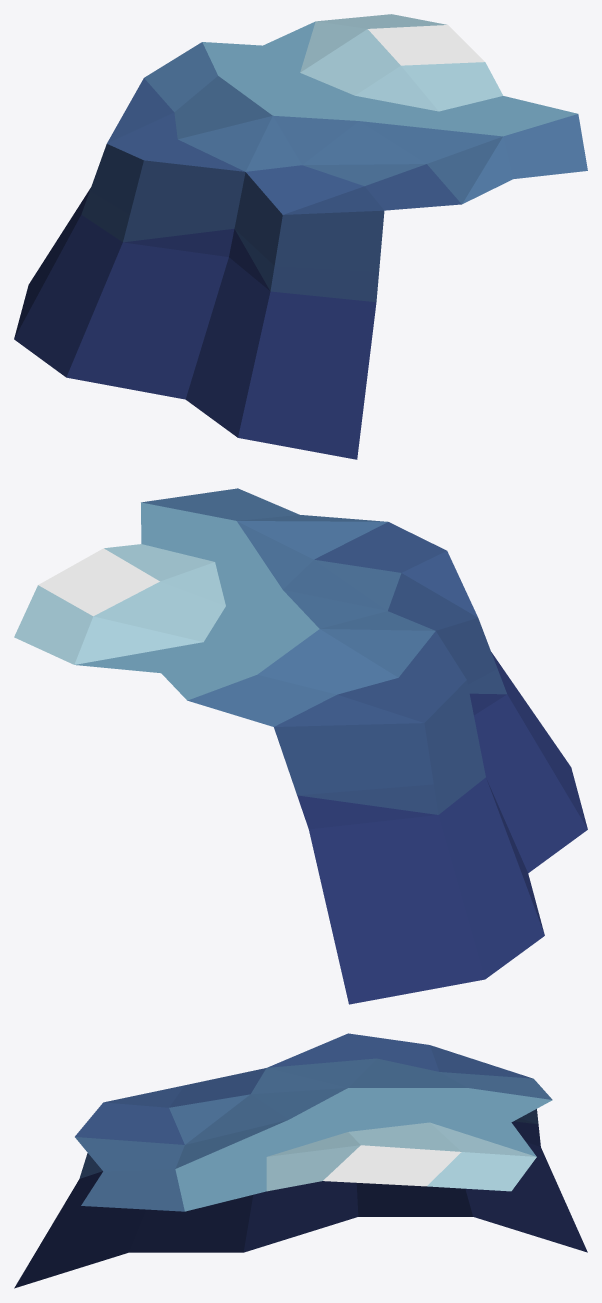
The model's file is terrainSeaFloorDescent1.fbx.
3 views of the same model, one above another, from view 1: azimuth 30°, elevation 25°; view 2: azimuth 150°, elevation 25°; view 3: azimuth 270°, elevation 25° (orthographic). The views are drawn at different scales.
Visible parts, largest first — view 1: seafloor; view 2: seafloor; view 3: seafloor.
Boxes of the visible parts, x1,y1,x2,y2 form: seafloor: (14, 14, 587, 459); seafloor: (14, 488, 587, 1004); seafloor: (14, 1033, 587, 1288).
Size of the model in its own units: 1075 by 544 by 1125.
1 material, 1 textured.
